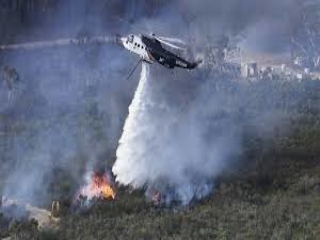fire: (92, 174, 118, 204)
